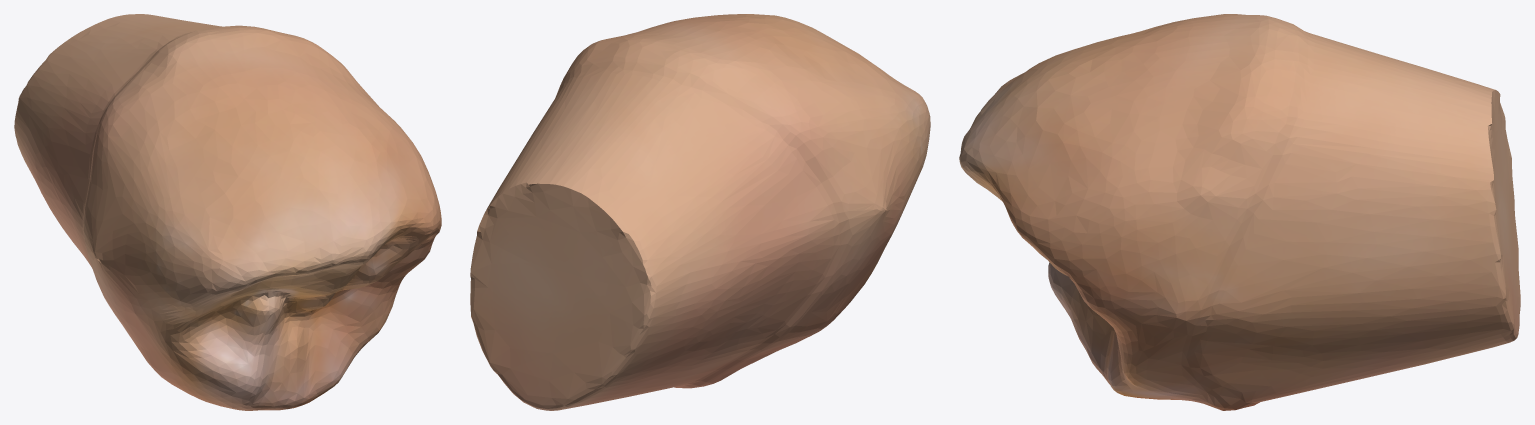
The model's file is local_t44_7780.obj.
3 views of the same model, side by side, from view 1: azimuth 30°, elevation 25°; view 2: azimuth 150°, elevation 25°; view 3: azimuth 270°, elevation 25° (orthographic). The views are drawn at different scales.
Size of the model in its own units: 7.82 by 8.16 by 11.4.
1 material, 1 textured.
